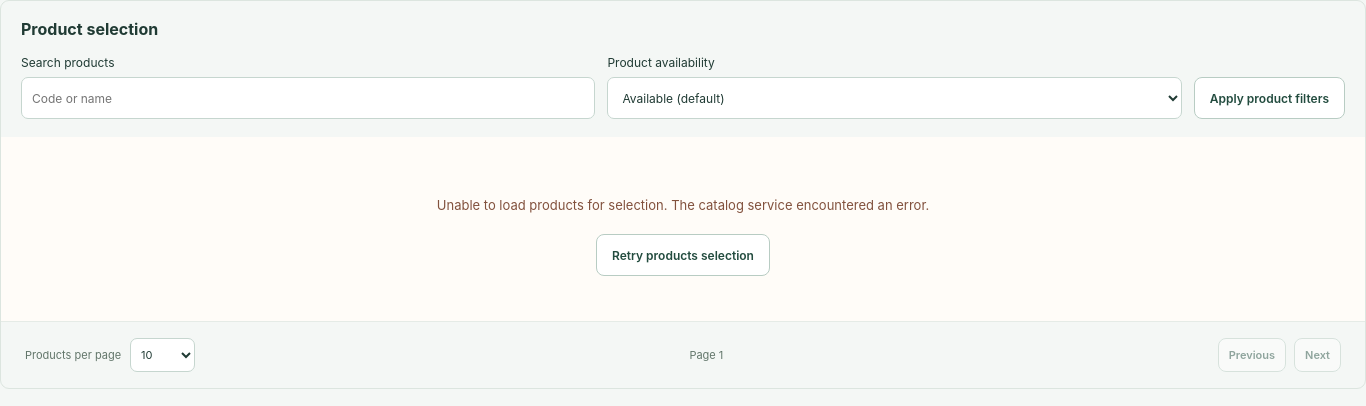
Test: Catalog reference selection › sanitizes errors and retries failed reference reads only on explicit action
This screenshot has width=1366, height=406.
expect the message shows "Unable to load products for selection": met, box [1,137,1365,321]
Click the button "Retry products selection" at {"x": 683, "y": 255}, box [596,234,770,276]
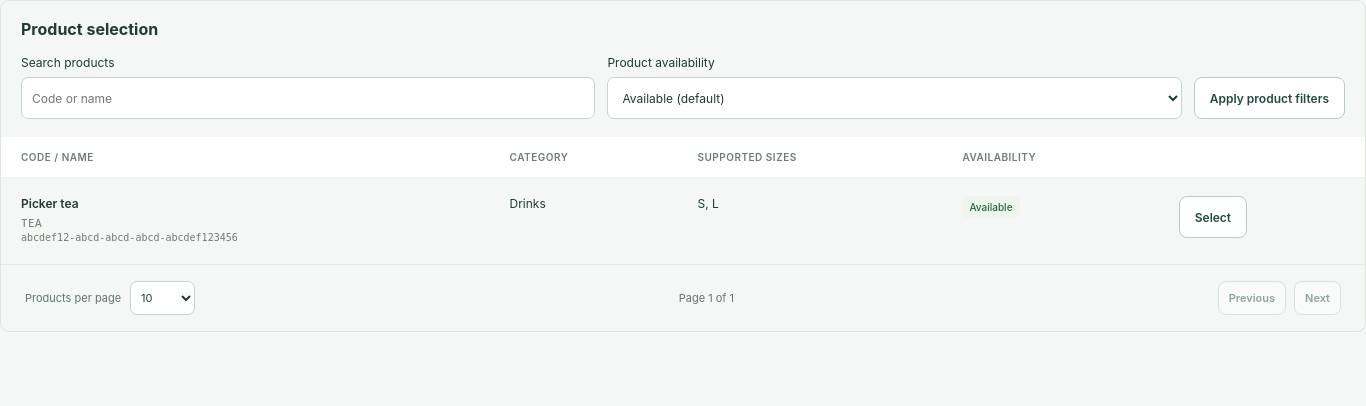
expect the button with aria-label "Select Picker tea" is shown: met, box [1179,196,1247,238]
expect the message is gone: met
